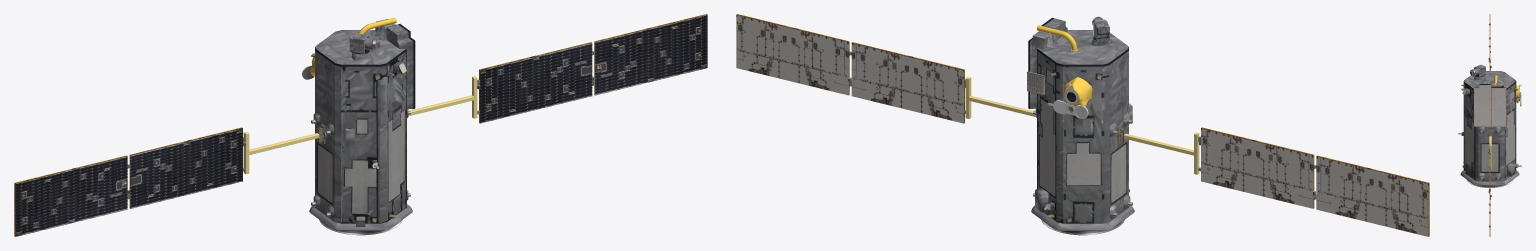
Rendered from oco2.gltf.
The picture shows the model from 3 angles, left to right: view 1: azimuth 30°, elevation 25°; view 2: azimuth 150°, elevation 25°; view 3: azimuth 270°, elevation 25°; orthographic projection. The views are drawn at different scales.
Parts seen in each view (by area): view 1: shiny_panel, foil_grey, foil_top&bottom, tex_02, tex_01, struts; view 2: tex_01, foil_grey, foil_top&bottom, tex_02, struts, AO, foil_gold; view 3: foil_grey, tex_01, tex_02, foil_top&bottom, struts, AO, foil_gold.
Boxes of the visible parts, left/top/right/bottom form: shiny_panel: left=15, top=14, right=707, bottom=236; foil_grey: left=313, top=25, right=408, bottom=223; foil_top&bottom: left=309, top=19, right=415, bottom=231; tex_02: left=317, top=110, right=405, bottom=214; tex_01: left=14, top=14, right=706, bottom=236; struts: left=243, top=76, right=477, bottom=174; tex_01: left=736, top=14, right=1429, bottom=236; foil_grey: left=1035, top=18, right=1132, bottom=223; foil_top&bottom: left=1028, top=18, right=1134, bottom=231; tex_02: left=1039, top=69, right=1127, bottom=205; struts: left=965, top=76, right=1199, bottom=174; AO: left=1044, top=84, right=1088, bottom=210; foil_gold: left=1063, top=77, right=1092, bottom=106; foil_grey: left=1462, top=64, right=1517, bottom=181; tex_01: left=1461, top=14, right=1520, bottom=236; tex_02: left=1465, top=90, right=1515, bottom=172; foil_top&bottom: left=1460, top=71, right=1519, bottom=185; struts: left=1489, top=136, right=1491, bottom=169; AO: left=1458, top=84, right=1521, bottom=167; foil_gold: left=1516, top=85, right=1519, bottom=102.
Size of the model in its own units: 8.13 by 2.16 by 1.13.
9 materials, 6 textured.
